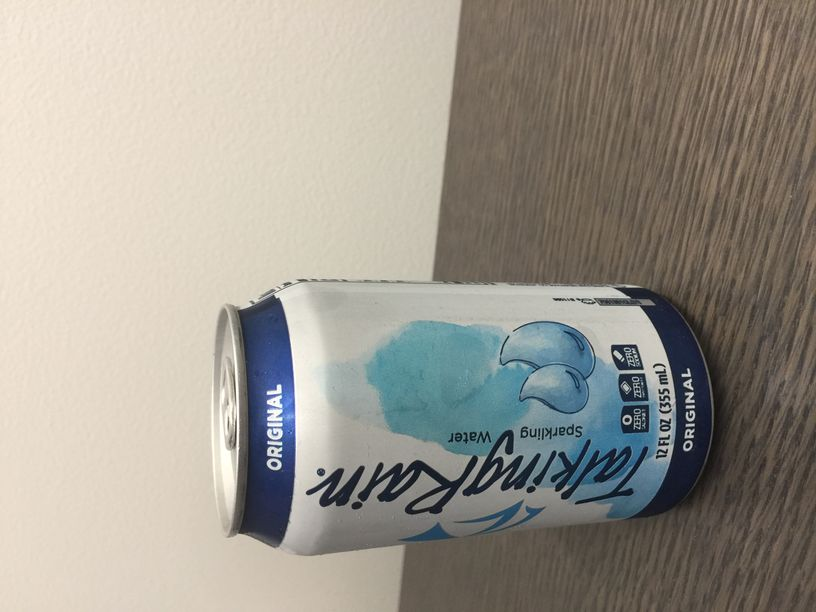competitor_02: (202, 274, 729, 562)
